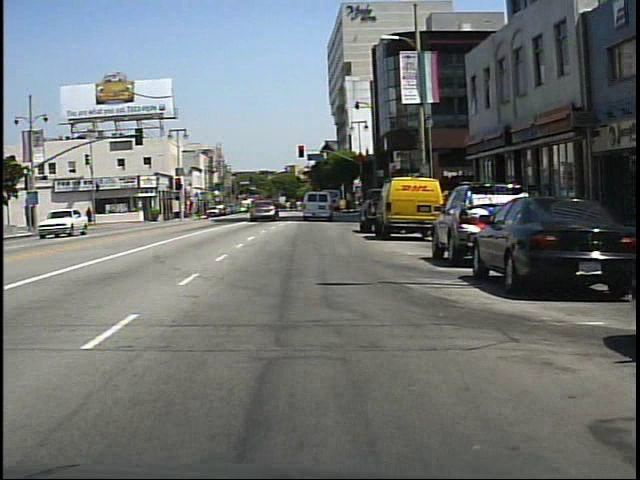person: (254, 192, 271, 222), (84, 203, 99, 231)
